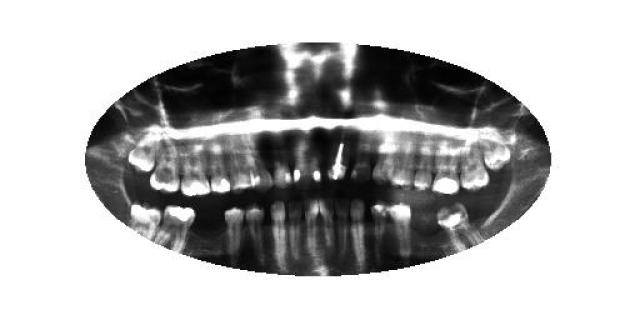Fillings: (152, 202, 200, 254), (432, 138, 462, 198), (181, 142, 210, 196), (208, 138, 232, 194)
Implant: (328, 126, 352, 184)
